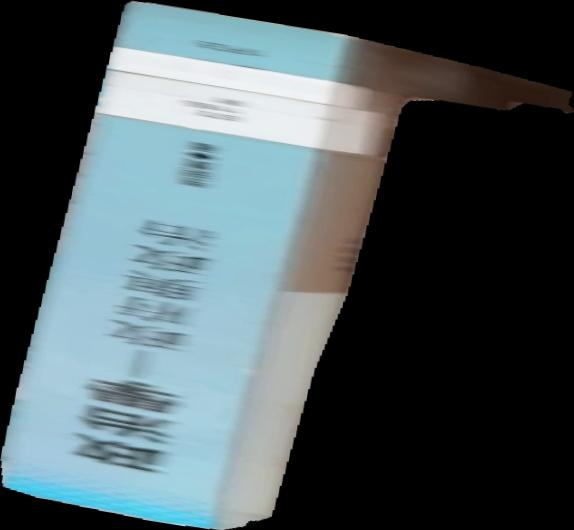reverse: (1, 1, 574, 530)
